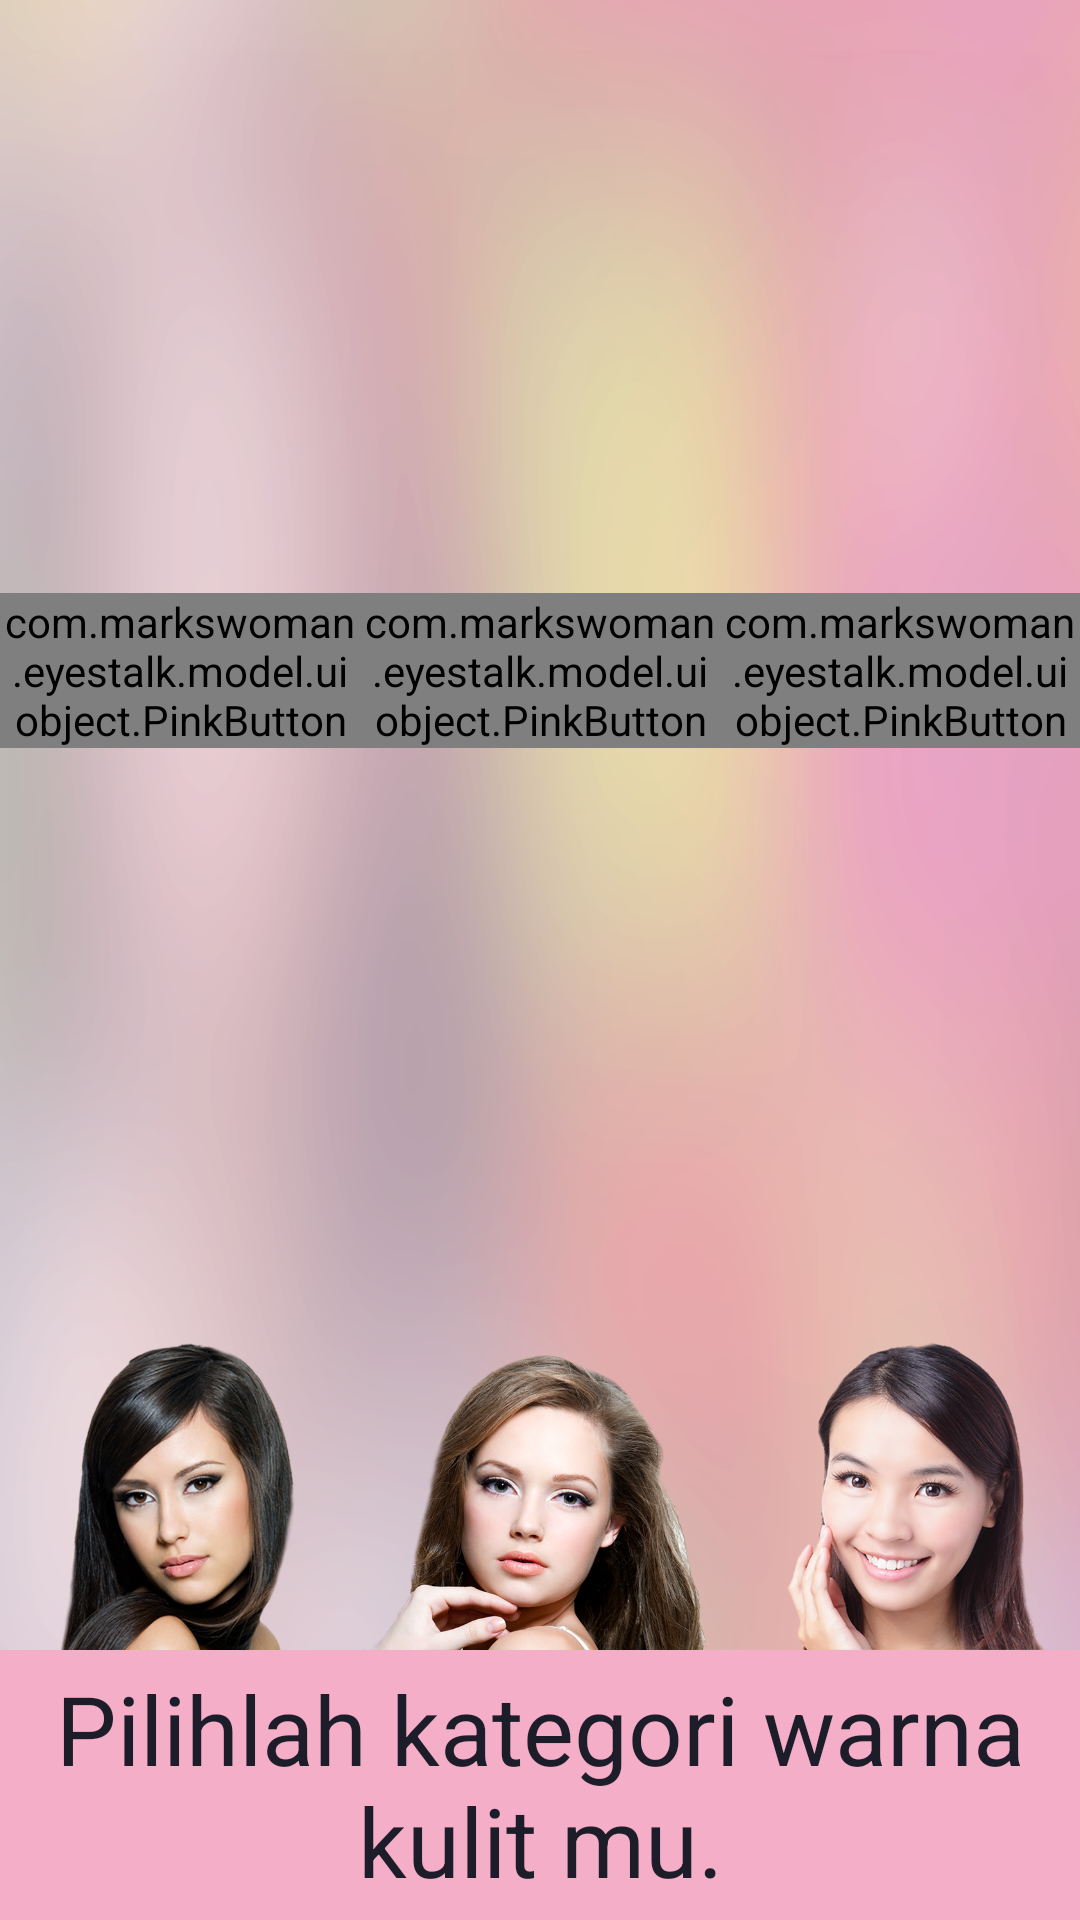

Named icons in this screenshot (1080 x 1920) and their centers, [x,y]:
asia: [900,1496]
melayu: [180,1496]
western: [540,1496]
